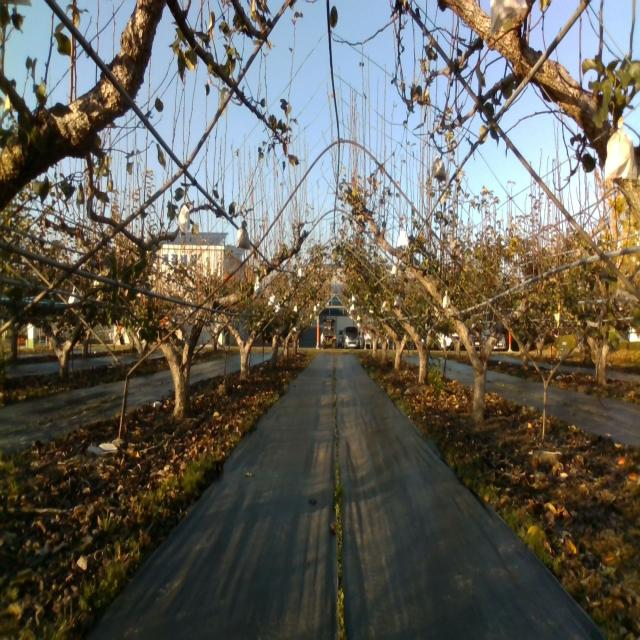pearbags: (604, 115, 638, 182), (431, 155, 446, 182), (178, 205, 190, 235), (235, 228, 250, 250)
